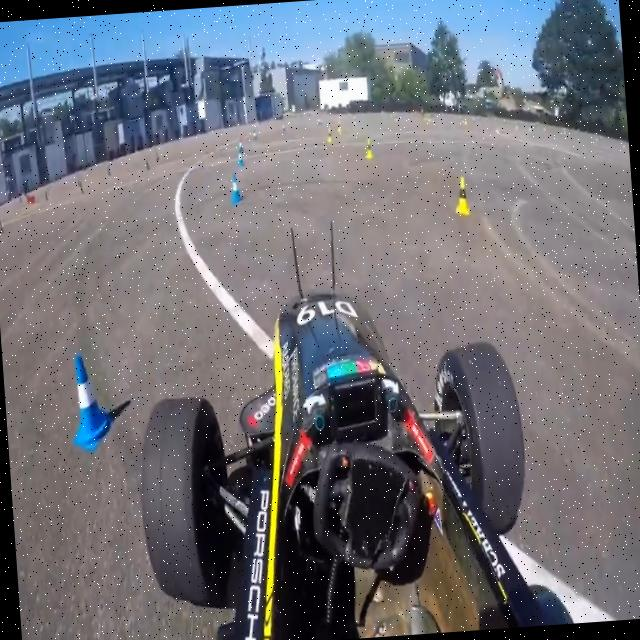blue_cone: (65, 346, 110, 446), (223, 168, 246, 205), (232, 142, 244, 165)
yellow_cone: (449, 174, 473, 220), (361, 132, 377, 162)
